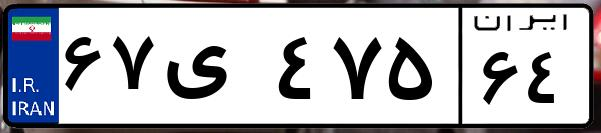4: (270, 28, 330, 110), (525, 38, 570, 115)
5: (385, 28, 445, 110)
6: (57, 26, 110, 100), (475, 38, 525, 113)
7: (330, 28, 385, 110), (110, 28, 158, 98)
ی: (158, 20, 270, 120)
